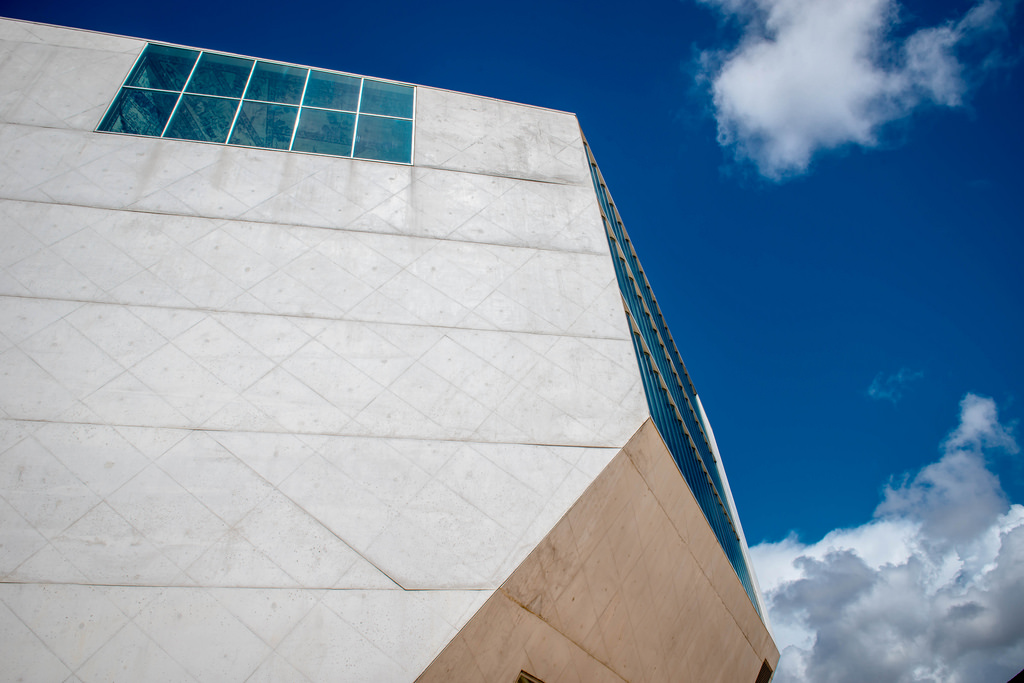musica: (0, 14, 784, 682)
